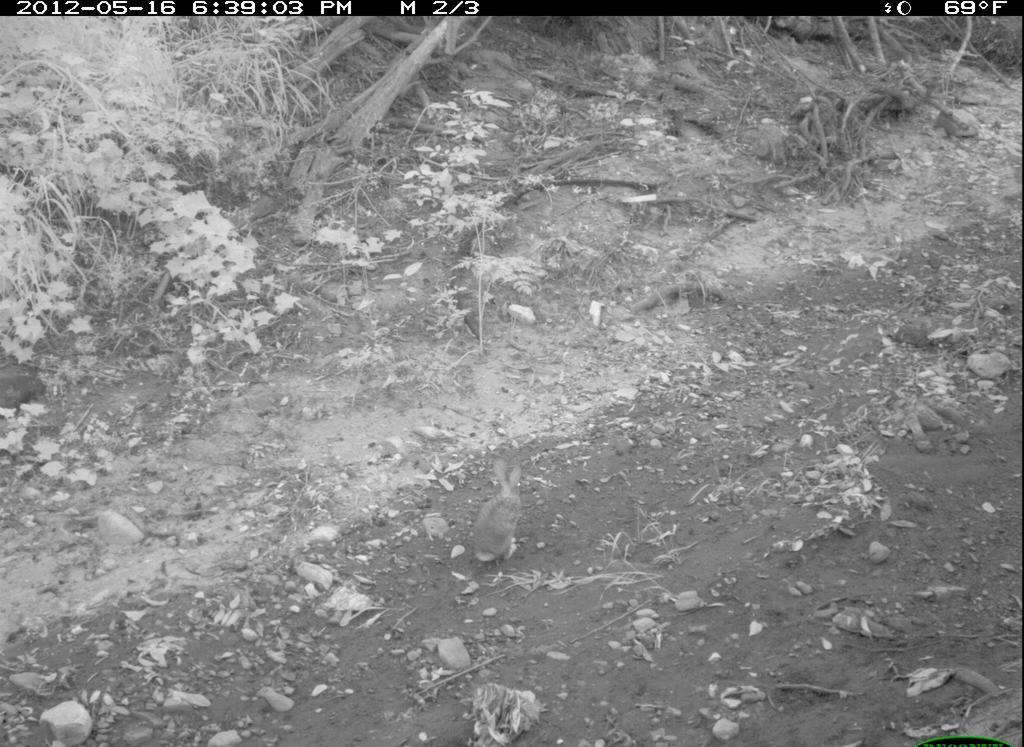rabbit: (460, 456, 538, 577)
